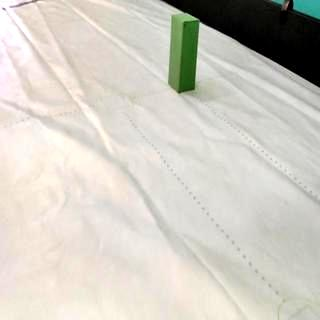greenbox: (168, 11, 202, 94)
